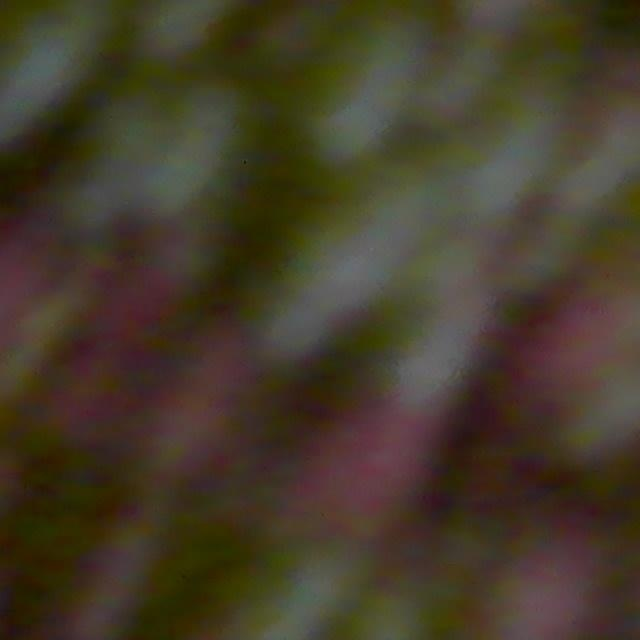SeaGrape: (289, 390, 422, 546), (444, 512, 583, 640)
